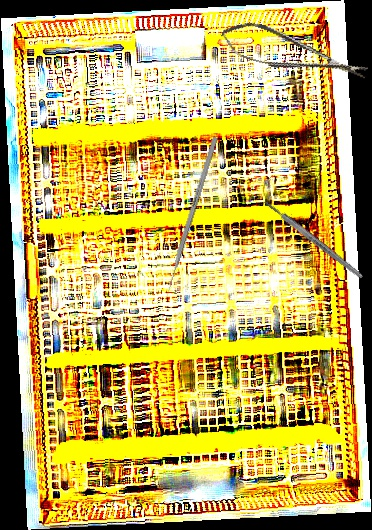Micro Scissor: (216, 13, 372, 96)
Pusher: (162, 136, 219, 300)
Scalpel Handle: (262, 198, 365, 281)
